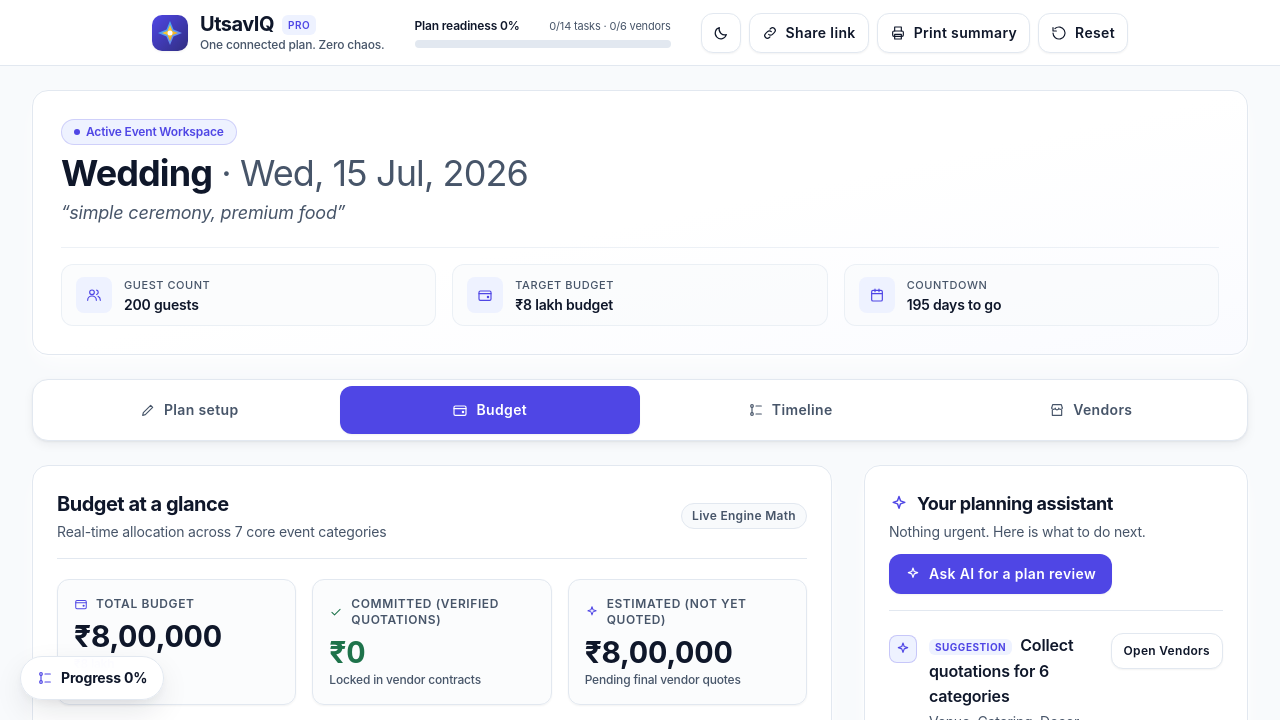
Test: timeline › groups tasks into phases and shows dependency chips
Click the tab "Timeline": click(790, 410) 640,386 -> 940,434
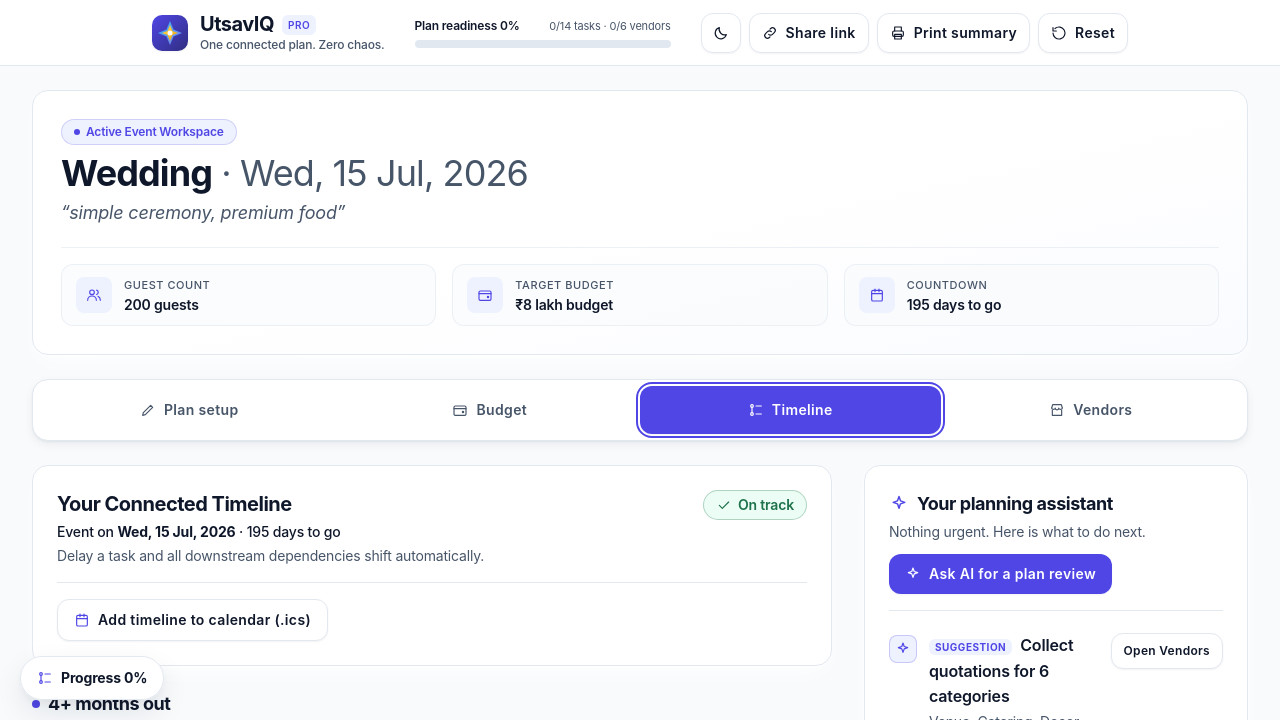
expect the heading "4+ months out" is shown: met, box 48,690 -> 170,718
expect the text "On track" is shown: met, box 703,490 -> 807,520
